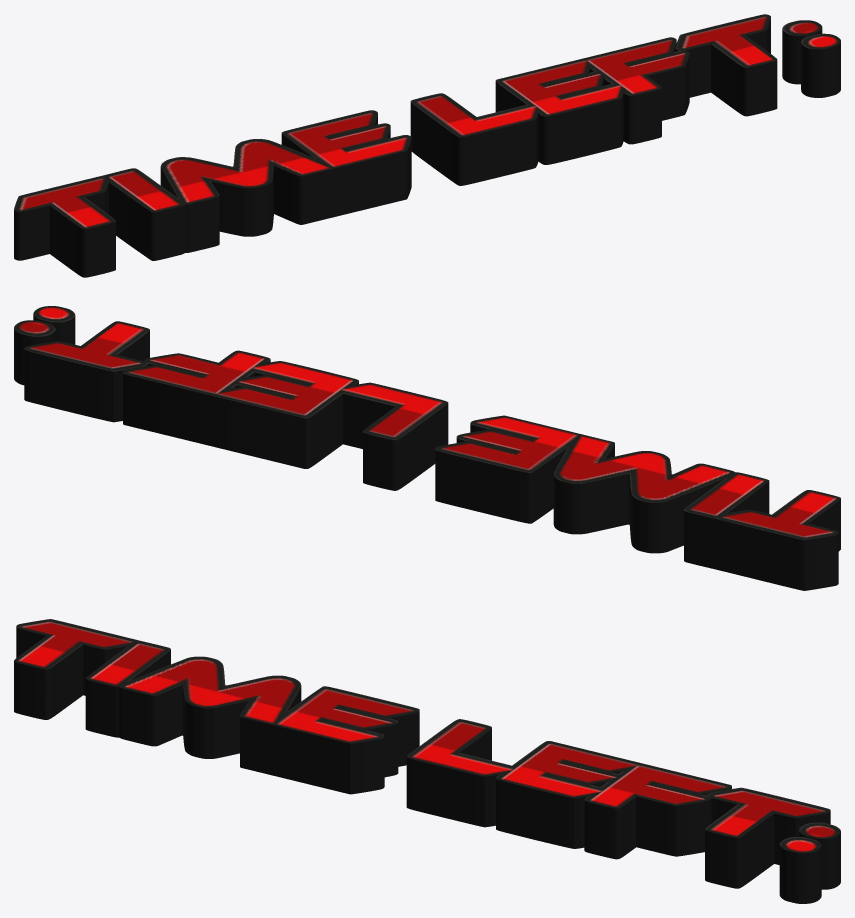
Rendered from time_left.obj.
The picture shows the model from 3 angles, top to bottom: view 1: azimuth 30°, elevation 25°; view 2: azimuth 150°, elevation 25°; view 3: azimuth 330°, elevation 25°; orthographic projection. The views are drawn at different scales.
Visible parts, largest first — view 1: Shape1; view 2: Shape1; view 3: Shape1.
Boxes of the visible parts, left/top/right/bottom form: Shape1: left=14, top=14, right=840, bottom=277; Shape1: left=14, top=306, right=840, bottom=590; Shape1: left=14, top=619, right=840, bottom=903.
Bounding box in the file's own units: 20.59 × 1.2 × 2.31.
3 materials, 2 textured.
